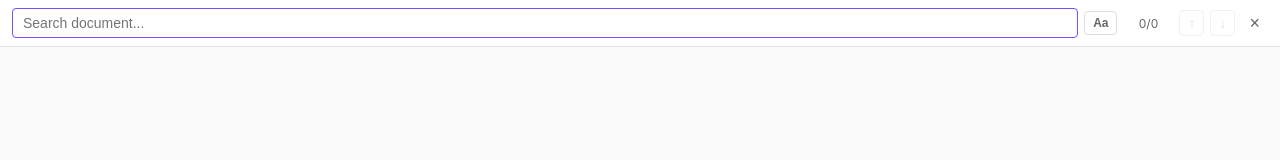
it: SearchPanel › next and previous cycle through matches
This screenshot has width=1280, height=160.
Type "fox" into the field with placeholder "Search document...".
click(545, 23); type("fox")  # box [12,8,1078,38]
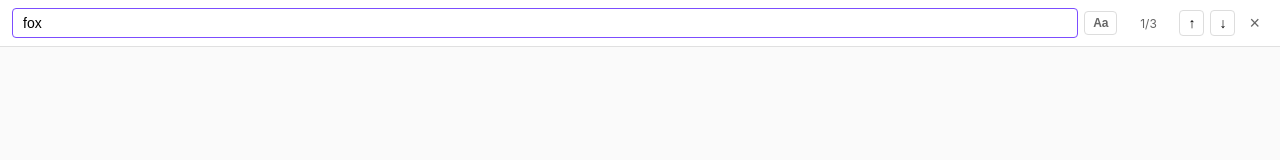
Click the button "↓".
click(1223, 23)  # box [1210,10,1236,36]
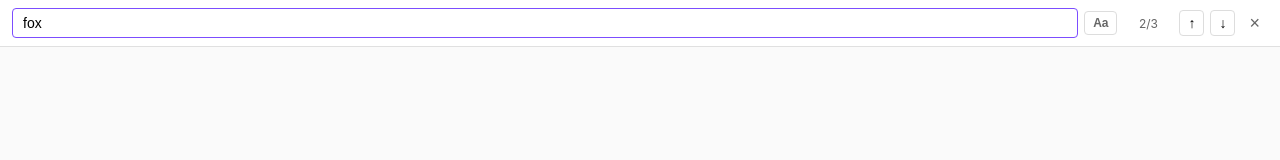
Now the text "2/3" is shown, box [1139,16,1158,30]
Click the button "↑".
click(1192, 23)  # box [1180,10,1204,36]
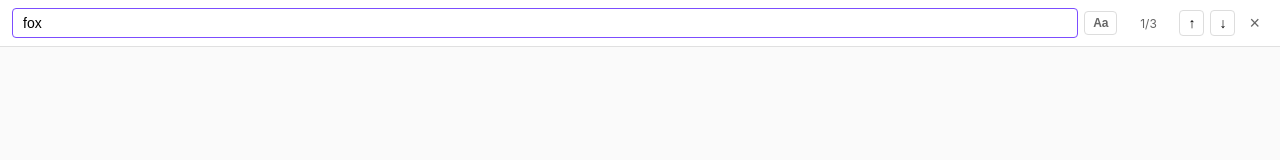
Now the text "1/3" is shown, box [1140,16,1157,30]
# prev wraps from the first to the last
Click the button "↑".
click(1192, 23)  # box [1180,10,1204,36]
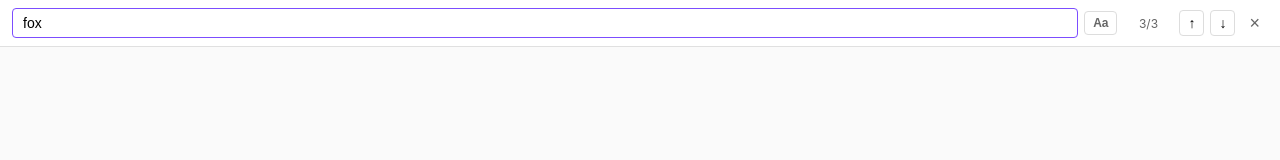
Now the text "3/3" is shown, box [1139,16,1158,30]
